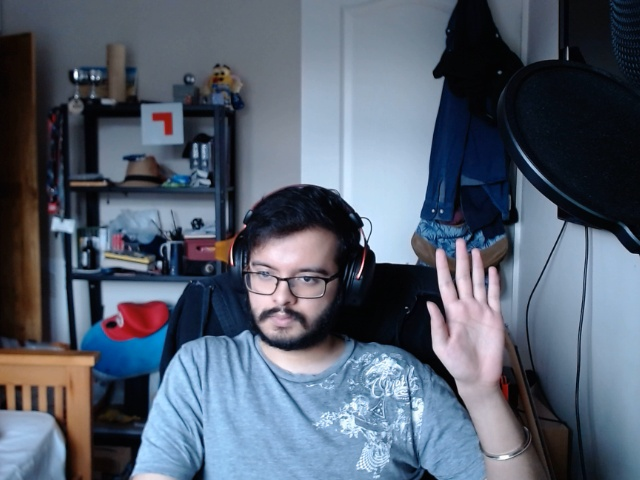Hello: (419, 229, 508, 383)
